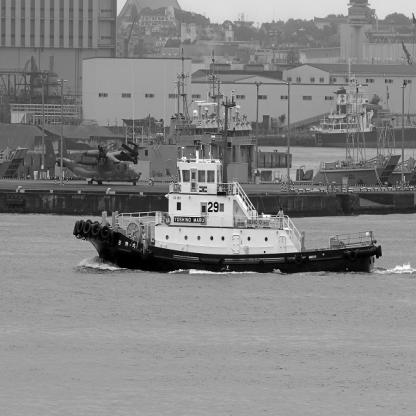V22: (44, 138, 143, 187)
